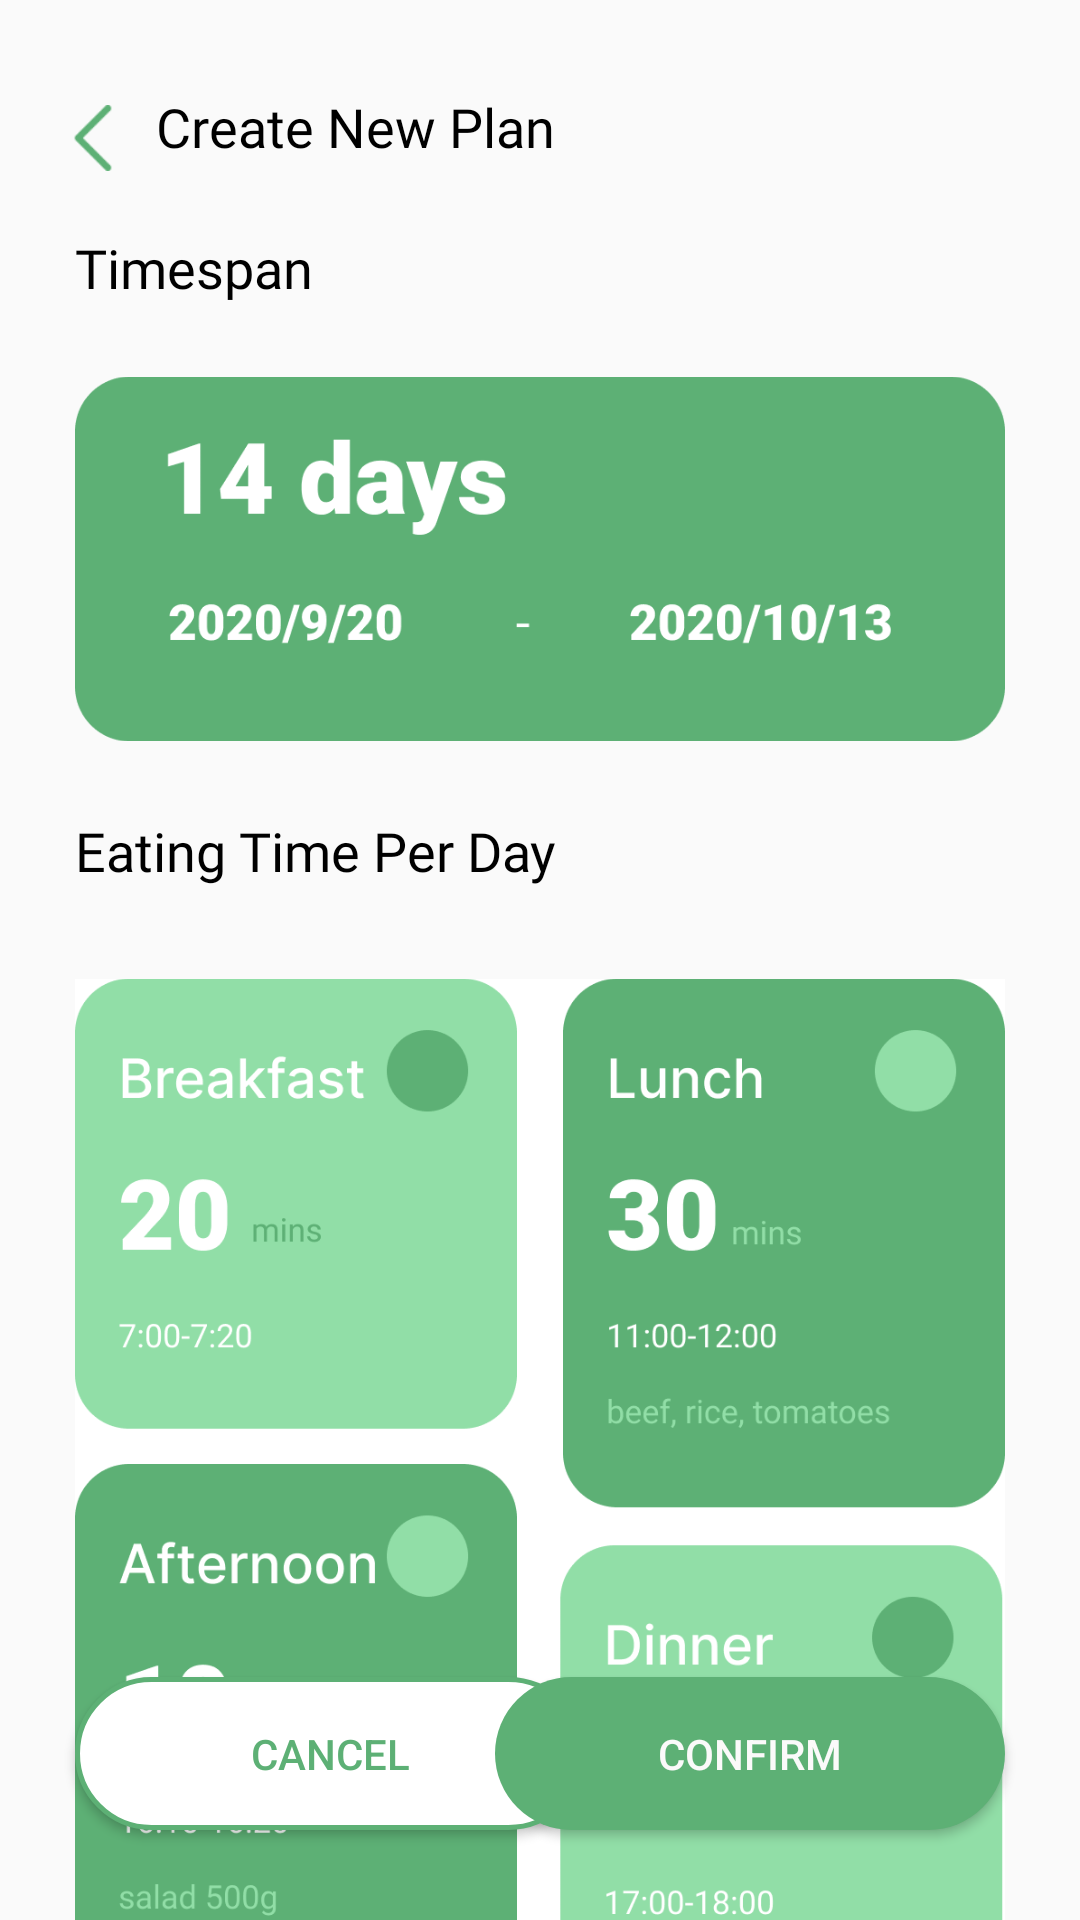

Icons on this 1080 × 1920 Android screen, each with its box as (x1, y1, x2, y2):
back: (74, 105, 112, 171)
